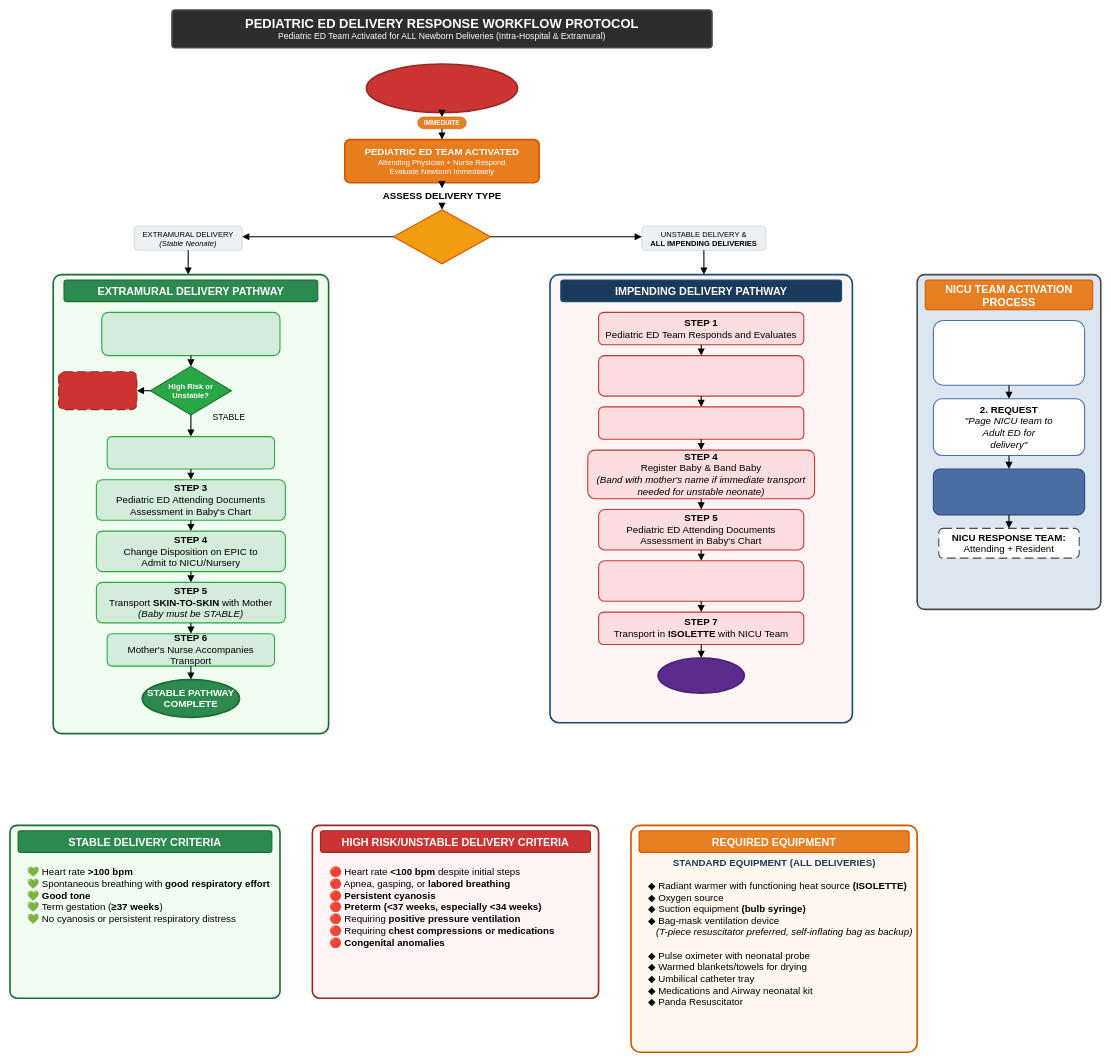
Some shapes in this 1111 by 1062 pixel diagram are drawn without their labels. Each missing label, with the box of its shape:
1. INITIATE PAGE Pediatric ED Team OR Adult ED Team Pages Hospital Operator: (933, 320, 1085, 386)
3. EXECUTE Operator Executes NICU Team Page: (933, 468, 1085, 515)
DELIVERY CLASSIFICATION: (393, 209, 491, 264)
NEWBORN DELIVERY EVENT DETECTED: (365, 63, 518, 113)
NICU CARE TRANSFER: (657, 657, 745, 694)
STEP 1 Pediatric ED Team ( Attending + Nurse ) Responds and Evaluates Newborn: (101, 312, 280, 356)
STEP 2 NICU Team Activated and Responds ( Attending + Resident ): (598, 355, 804, 396)
STEP 2 Register & Band Baby in System: (106, 436, 275, 469)
STEP 3 NICU Team ASSUMES CARE Upon Arrival: (598, 406, 804, 440)
STEP 6 Change Disposition on EPIC to Admit to NICU/Nursery: (598, 560, 804, 602)
YES → Activate NICU Team (See NICU Activation Process): (58, 371, 137, 410)
